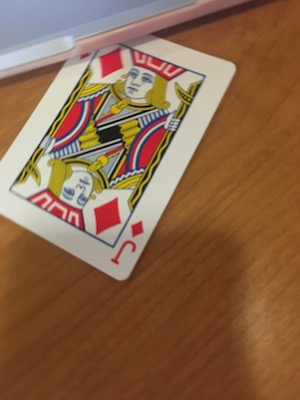JackOfDiamonds: (1, 26, 239, 285)
